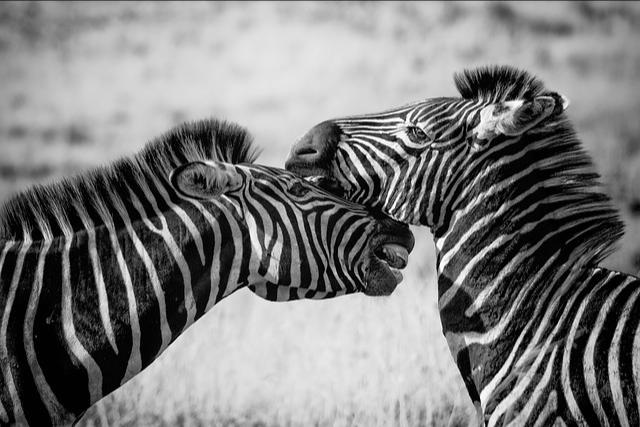Non_Gorille: (4, 22, 640, 427)
